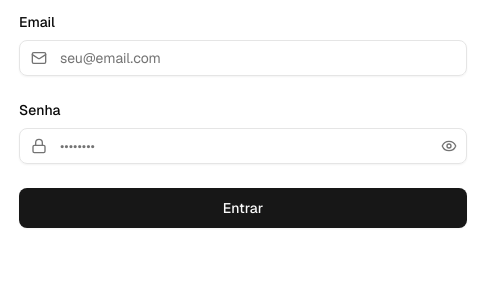
Test: LoginForm › should validate password field correctly
Try to submit with empty password
Click the button "Entrar" at x=243, y=208, box [19,188,467,228]
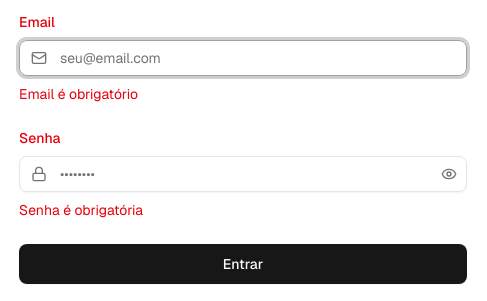
Expected: the text "Senha é obrigatória" is shown, [19,201,143,219]
